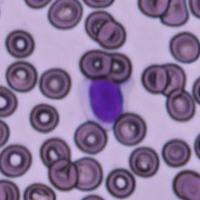L: (77, 78, 127, 129)
